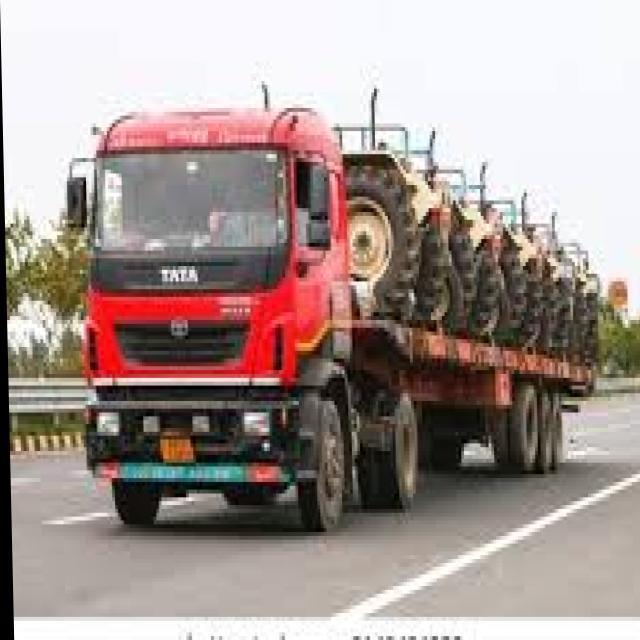uncovered: (80, 109, 598, 518)
